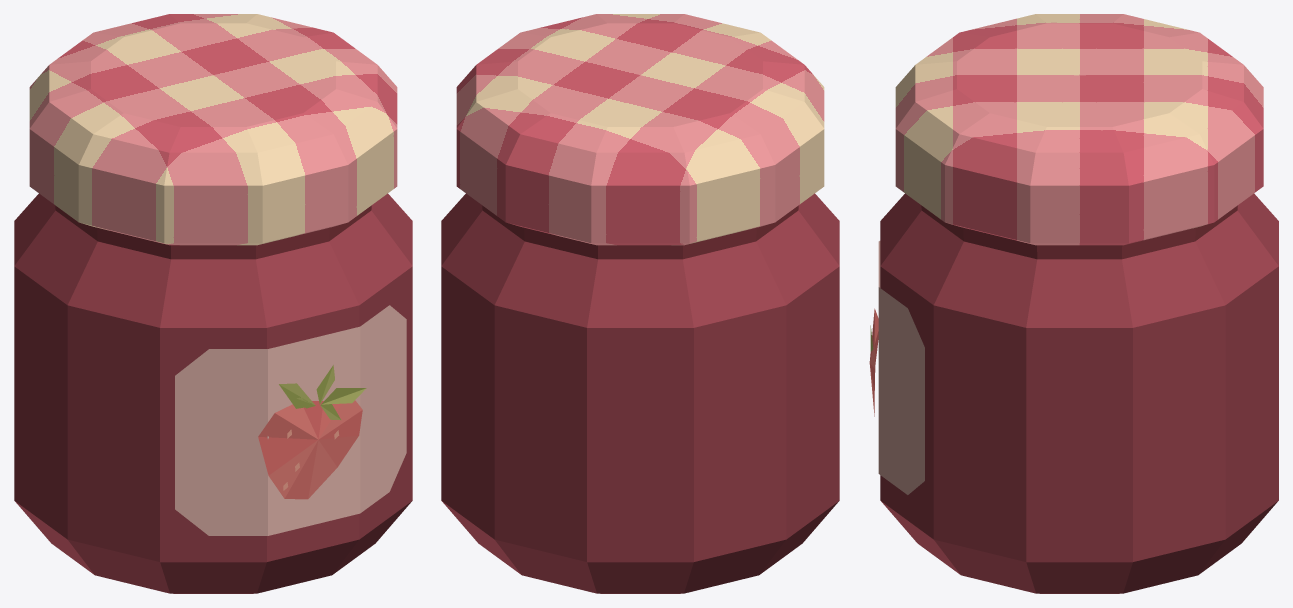
The model's file is 06-strawberry-jam.glb.
3 views of the same model, side by side, from view 1: azimuth 30°, elevation 25°; view 2: azimuth 150°, elevation 25°; view 3: azimuth 270°, elevation 25° (orthographic).
Parts seen in each view (by area): view 1: 01 Faceted ruby jam jar, 03 Gingham cap, 04 Strawberry label and emblem, 02 Neck under lid; view 2: 01 Faceted ruby jam jar, 03 Gingham cap, 02 Neck under lid; view 3: 01 Faceted ruby jam jar, 03 Gingham cap, 04 Strawberry label and emblem, 02 Neck under lid.
Part boxes in pixels (x1,y1,x2,y2): 01 Faceted ruby jam jar: (14, 193, 412, 593); 03 Gingham cap: (29, 14, 397, 245); 04 Strawberry label and emblem: (175, 305, 406, 535); 02 Neck under lid: (55, 205, 371, 259); 01 Faceted ruby jam jar: (441, 193, 839, 593); 03 Gingham cap: (456, 14, 824, 245); 02 Neck under lid: (482, 205, 798, 259); 01 Faceted ruby jam jar: (880, 193, 1278, 593); 03 Gingham cap: (895, 14, 1263, 245); 04 Strawberry label and emblem: (869, 241, 924, 494); 02 Neck under lid: (921, 205, 1237, 259).
Bounding box in the file's own units: 1.76 × 2.25 × 1.81.
Materials: 10 (1 with a texture image).
